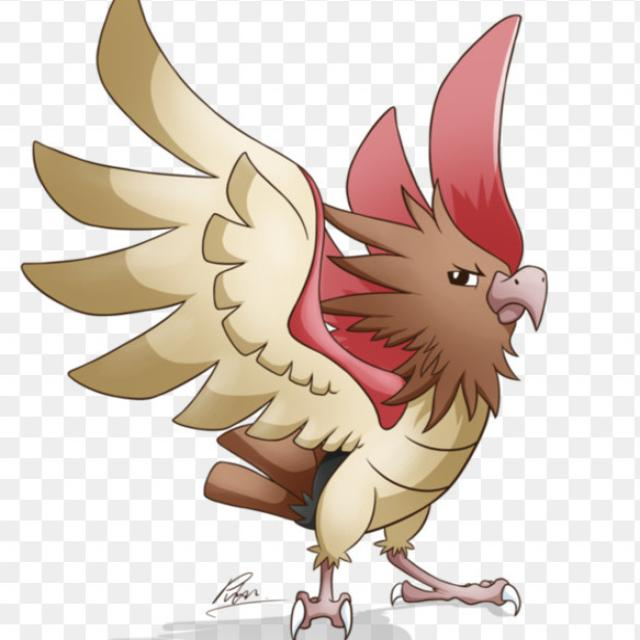Spearow: (155, 139, 561, 580)
